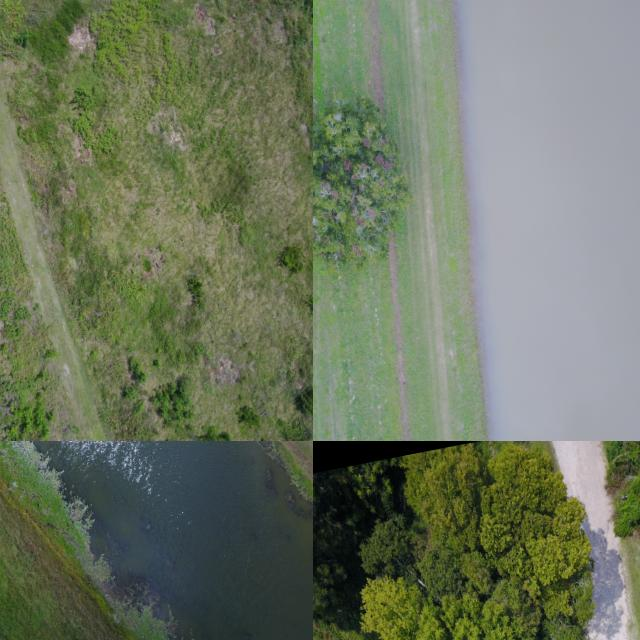fire: (456, 0, 640, 441), (33, 441, 313, 640)
